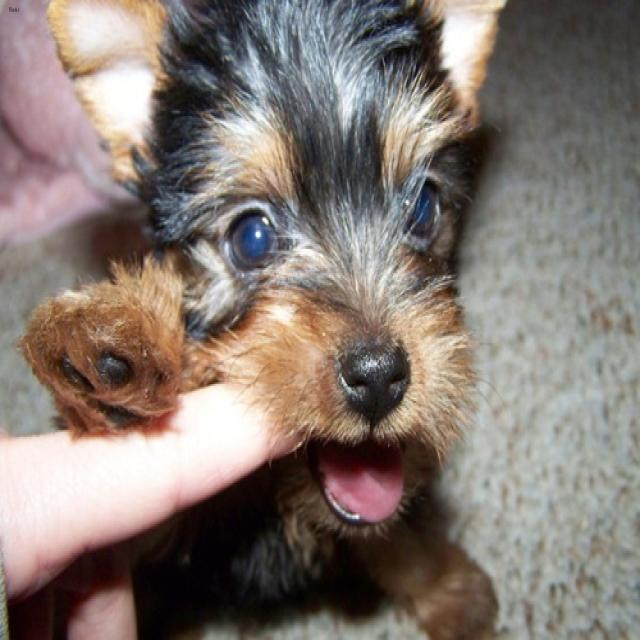dog-yorkshire_terrier: (13, 2, 520, 637)
